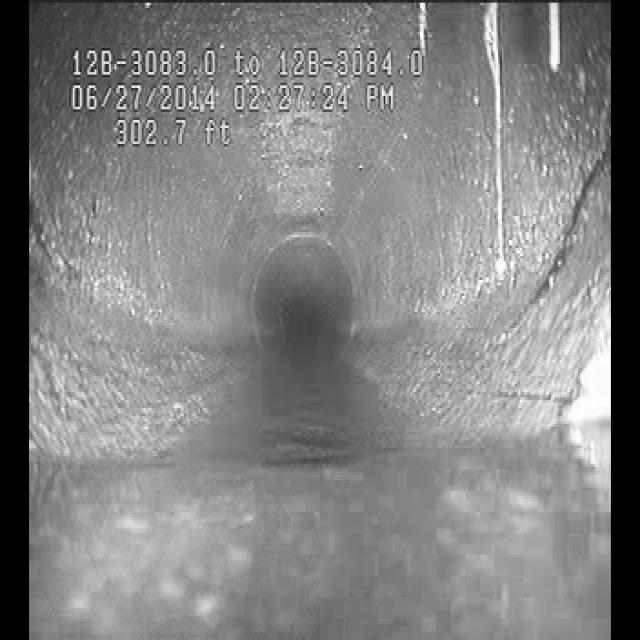Fracture: (455, 144, 597, 406)
